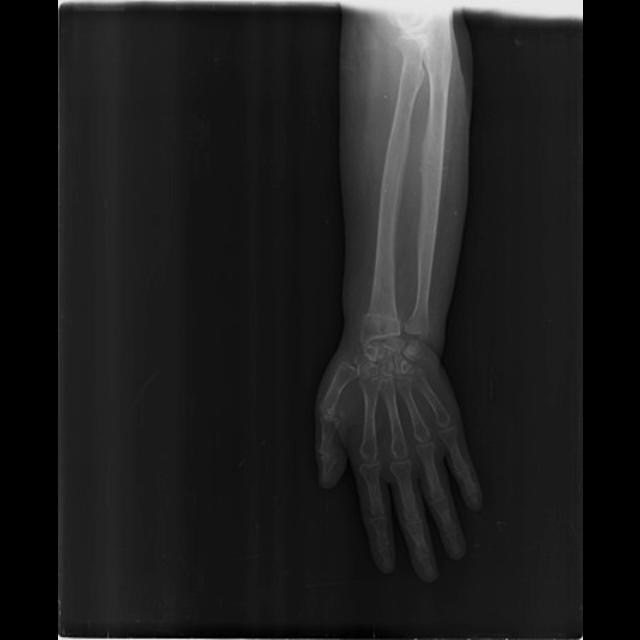Fracture: (360, 305, 402, 327)
